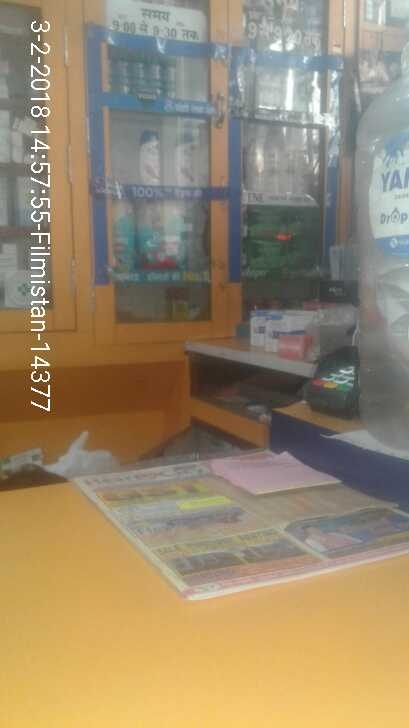vicks: (106, 52, 180, 97)
